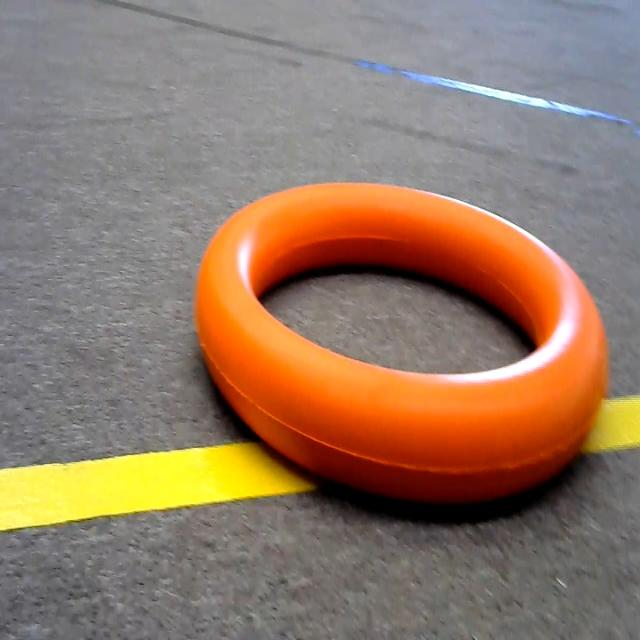note: (170, 155, 629, 550)
